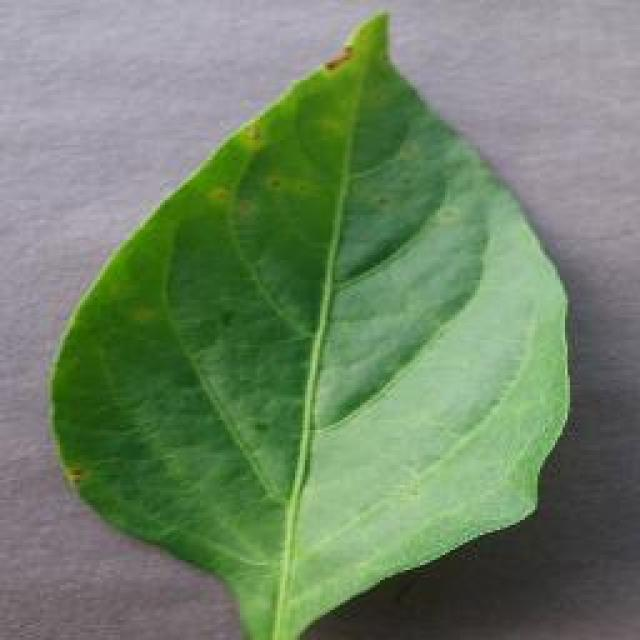Chilli_Healthy: (45, 8, 573, 638)
